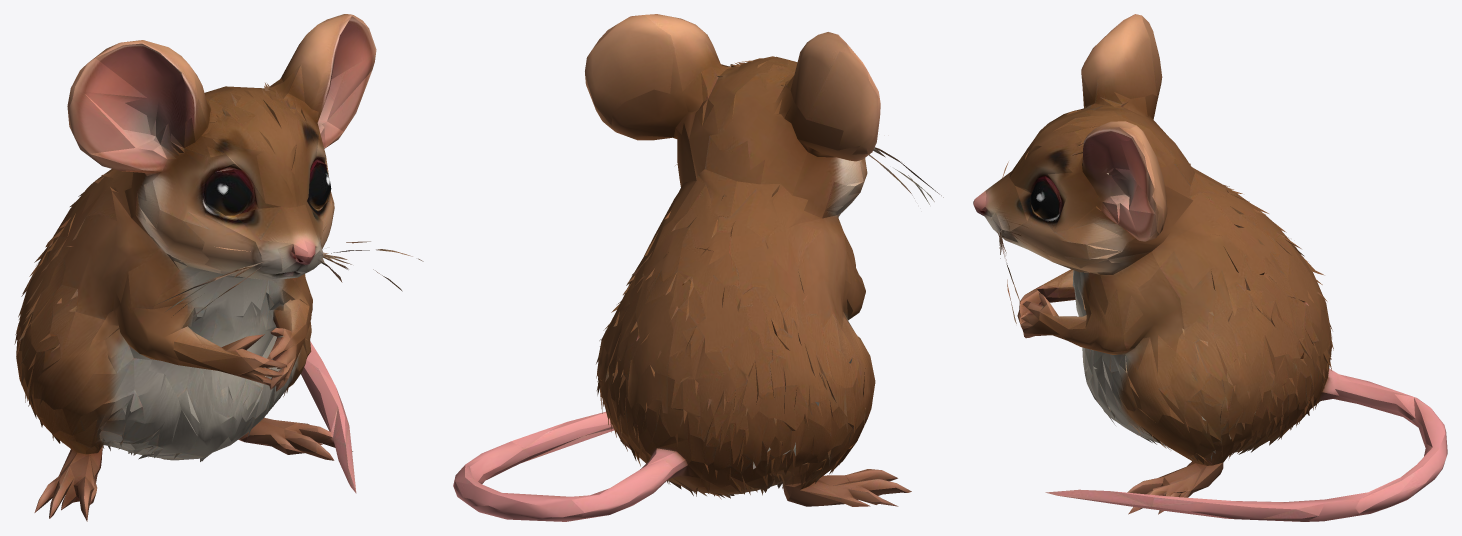
File: mouse.glb
3 views of the same model, side by side, from view 1: azimuth 30°, elevation 25°; view 2: azimuth 150°, elevation 25°; view 3: azimuth 270°, elevation 25° (orthographic). The views are drawn at different scales.
Size of the model in its own units: 1.43 by 1.8 by 1.9.
Materials: 1 (1 with a texture image).
